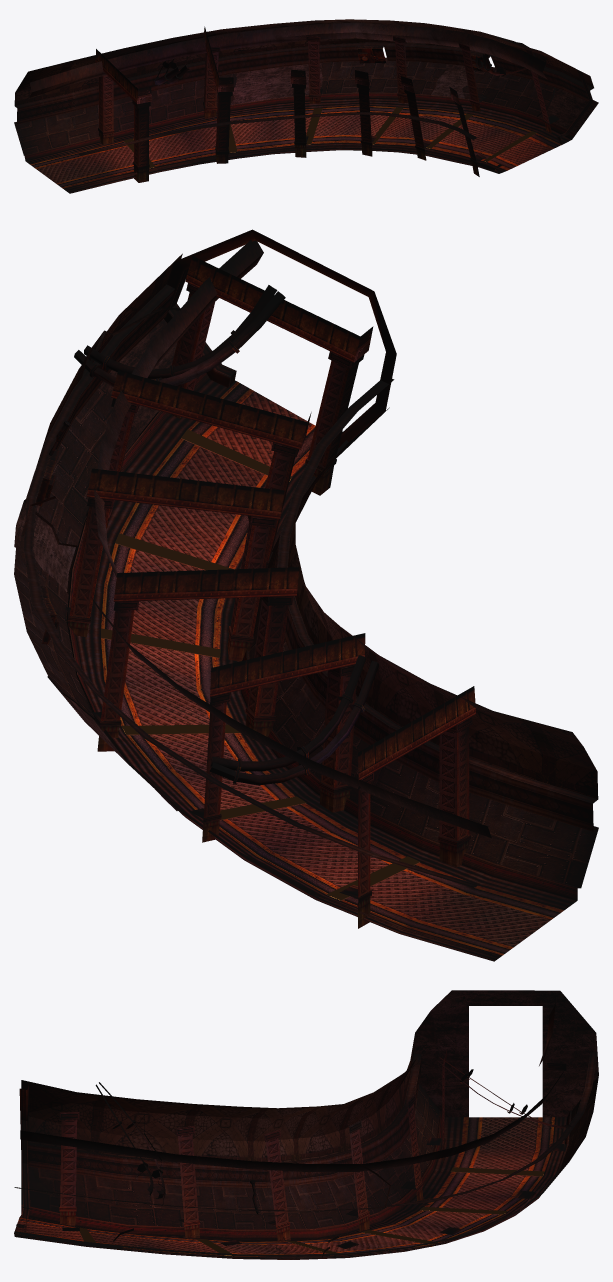
File: 18Hall.gltf
3 renders of one model, top to bottom at view 1: azimuth 30°, elevation 25°; view 2: azimuth 150°, elevation 25°; view 3: azimuth 270°, elevation 25°, orthographic. The views are drawn at different scales.
Parts seen in each view (by area): view 1: stg030_o22_Mesh_15, stg030_o22_Mesh_8, stg030_o22_Mesh_7, stg030_o22_Mesh_16, stg030_o22_Mesh_12, stg030_o22_Mesh_4, stg030_o22_Mesh_5, stg030_o22_Mesh_9, stg030_o22_Mesh_13, stg030_g22_Mesh_0, stg030_o22_Mesh_14, stg030_o22_Mesh_11; view 2: stg030_o22_Mesh_13, stg030_o22_Mesh_15, stg030_o22_Mesh_16, stg030_o22_Mesh_8, stg030_o22_Mesh_7, stg030_o22_Mesh_12, stg030_o22_Mesh_4, stg030_o22_Mesh_5, stg030_o22_Mesh_14, stg030_g22_Mesh_0, stg030_o22_Mesh_9, stg030_o22_Mesh_11; view 3: stg030_o22_Mesh_5, stg030_o22_Mesh_7, stg030_o22_Mesh_8, stg030_o22_Mesh_15, stg030_o22_Mesh_9, stg030_o22_Mesh_16, stg030_o22_Mesh_4, stg030_o22_Mesh_12, stg030_o22_Mesh_14, stg030_g22_Mesh_0, stg030_o22_Mesh_13.
Part boxes in pixels (box(x1,y1,x2,y2)): stg030_o22_Mesh_15: box(29, 22, 561, 188); stg030_o22_Mesh_8: box(15, 42, 594, 189); stg030_o22_Mesh_7: box(14, 57, 553, 155); stg030_o22_Mesh_16: box(36, 114, 551, 183); stg030_o22_Mesh_12: box(99, 41, 549, 166); stg030_o22_Mesh_4: box(26, 36, 571, 193); stg030_o22_Mesh_5: box(14, 19, 593, 105); stg030_o22_Mesh_9: box(230, 39, 598, 133); stg030_o22_Mesh_13: box(95, 26, 551, 182); stg030_g22_Mesh_0: box(123, 107, 536, 168); stg030_o22_Mesh_14: box(98, 79, 593, 169); stg030_o22_Mesh_11: box(357, 46, 493, 71); stg030_o22_Mesh_13: box(67, 256, 476, 928); stg030_o22_Mesh_15: box(47, 240, 564, 955); stg030_o22_Mesh_16: box(125, 391, 551, 946); stg030_o22_Mesh_8: box(23, 284, 597, 955); stg030_o22_Mesh_7: box(14, 326, 598, 887); stg030_o22_Mesh_12: box(73, 293, 467, 896); stg030_o22_Mesh_4: box(76, 283, 576, 961); stg030_o22_Mesh_5: box(20, 253, 598, 799); stg030_o22_Mesh_14: box(66, 229, 470, 902); stg030_g22_Mesh_0: box(101, 429, 419, 900); stg030_o22_Mesh_9: box(14, 319, 177, 810); stg030_o22_Mesh_11: box(36, 420, 70, 644); stg030_o22_Mesh_5: box(21, 1034, 418, 1258); stg030_o22_Mesh_7: box(21, 1075, 598, 1229); stg030_o22_Mesh_8: box(14, 1052, 597, 1256); stg030_o22_Mesh_15: box(14, 1005, 571, 1256); stg030_o22_Mesh_9: box(414, 990, 598, 1218); stg030_o22_Mesh_16: box(15, 1117, 537, 1253); stg030_o22_Mesh_4: box(14, 1050, 567, 1259); stg030_o22_Mesh_12: box(60, 1058, 444, 1225); stg030_o22_Mesh_14: box(16, 1082, 566, 1248); stg030_g22_Mesh_0: box(78, 1167, 544, 1255); stg030_o22_Mesh_13: box(60, 1146, 444, 1240).
Bounding box in the file's own units: 48.98 × 21.22 × 47.67.
Materials: 15 (14 with a texture image).
